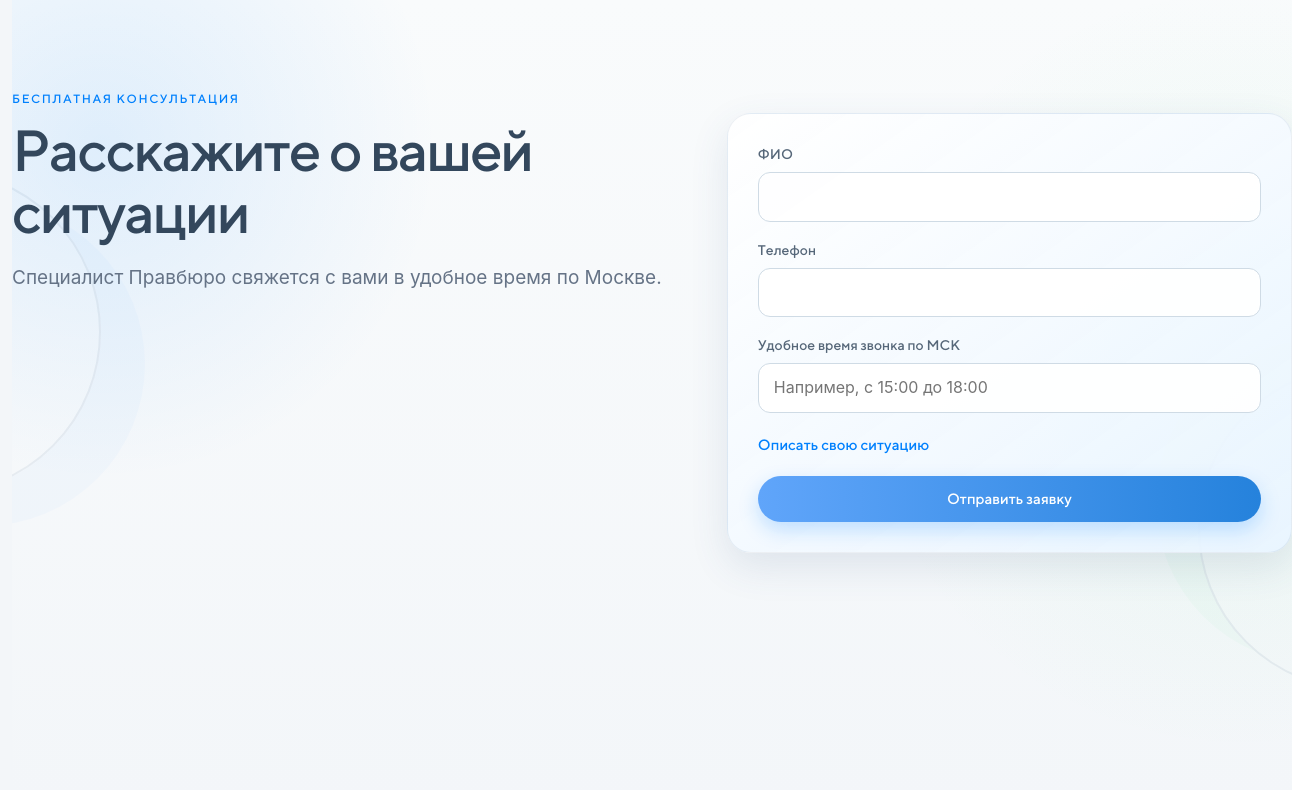
Test: referral form › hides the situation fields until asked, then reveals them
Expected: the field labelled "ФИО" is shown, [758,172,1261,222]
Expected: the field labelled "Город" is not shown
Step 1. Click the button "Описать свою ситуацию" → (844, 444), box [758,431,929,458]
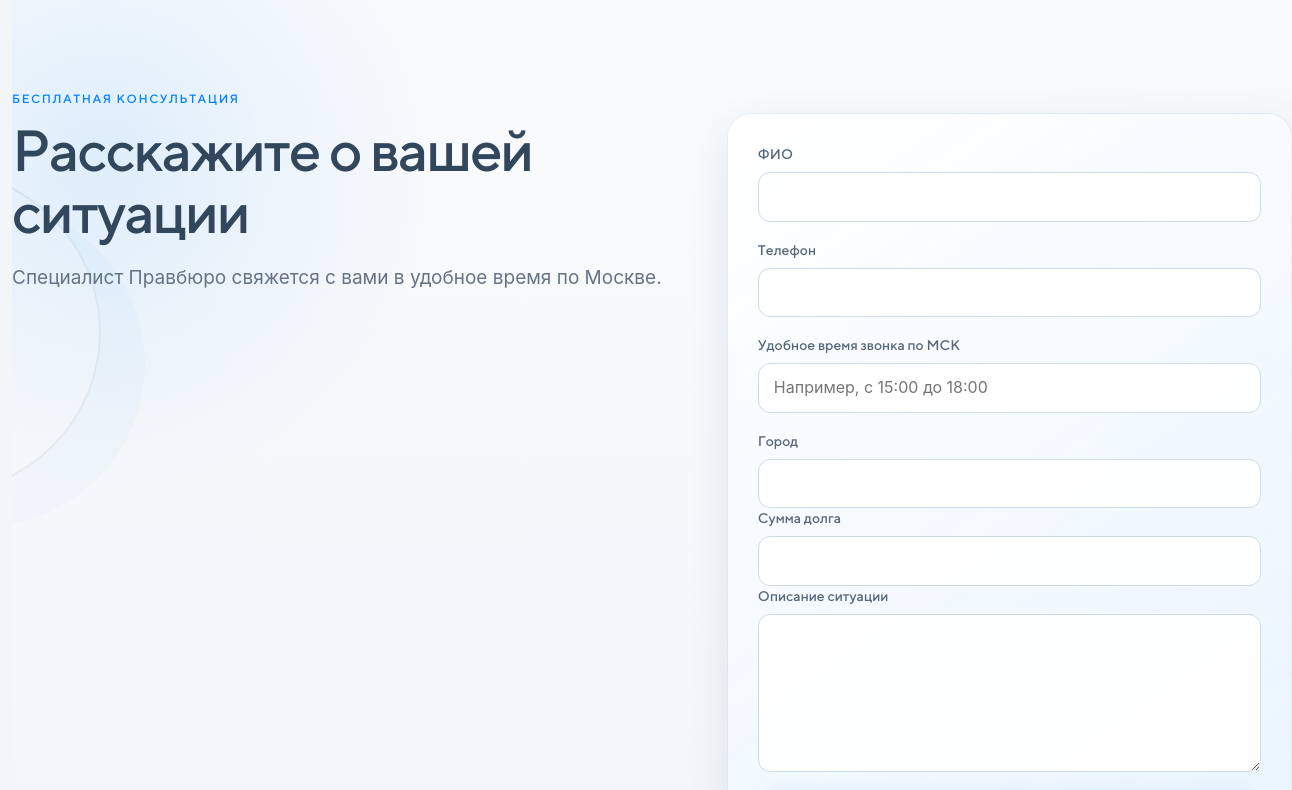
Expected: the field labelled "Город" is shown, [758,459,1261,508]
Expected: the field labelled "Сумма долга" is shown, [758,536,1261,586]
Expected: the text box labelled "Описание ситуации" is shown, [758,614,1261,772]
